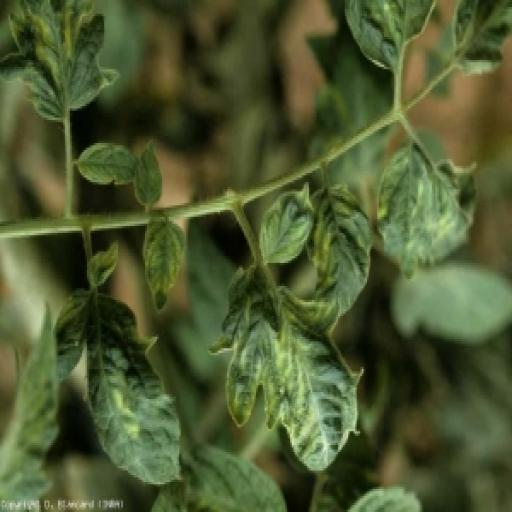Mosaic Virus: (219, 261, 367, 473), (55, 290, 185, 488)
